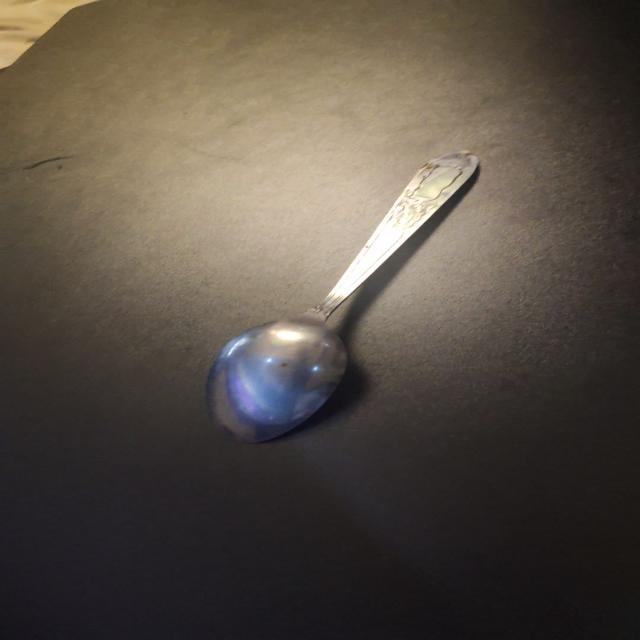plastic utensil: (209, 151, 478, 442)
